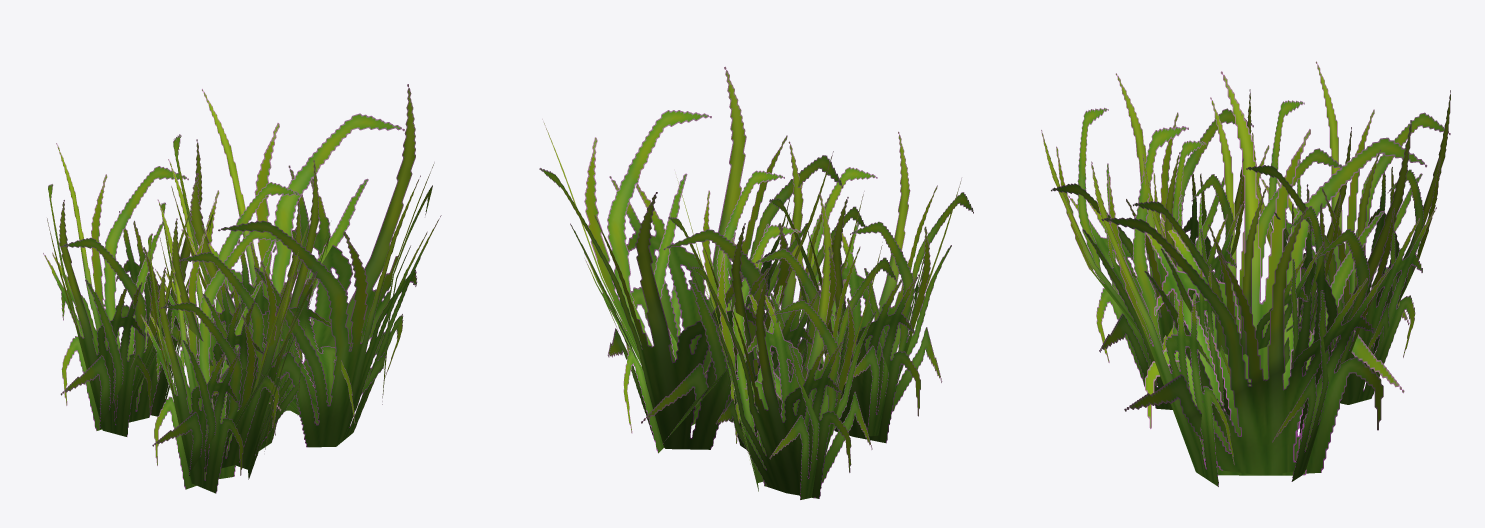
Rendered from n_SWTgrass01.glb.
The picture shows the model from 3 angles, left to right: view 1: azimuth 30°, elevation 25°; view 2: azimuth 150°, elevation 25°; view 3: azimuth 270°, elevation 25°; orthographic projection. The views are drawn at different scales.
Parts seen in each view (by area): view 1: n_SWTgrass01; view 2: n_SWTgrass01; view 3: n_SWTgrass01.
Part boxes in pixels (x1,y1,x2,y2): n_SWTgrass01: (43,84,441,493); n_SWTgrass01: (539,66,973,499); n_SWTgrass01: (1041,61,1450,486).
Bounding box in the file's own units: 0.9139 × 0.7892 × 0.8385.
Materials: 1 (1 with a texture image).
